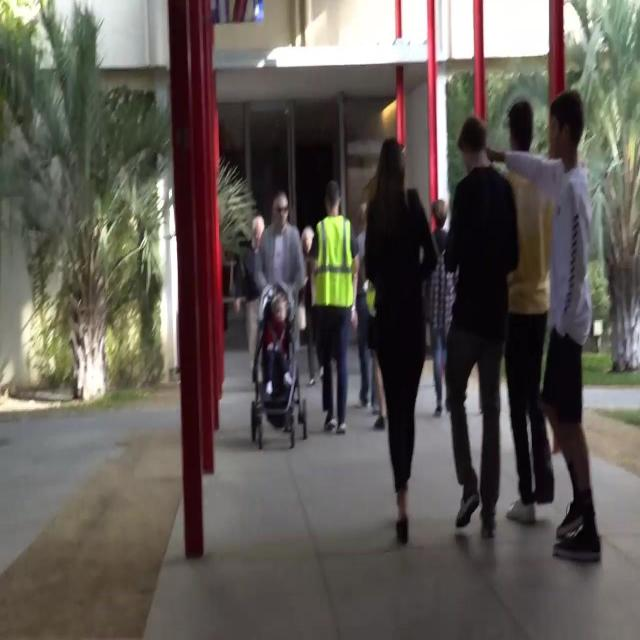Vest: (312, 214, 352, 310)
